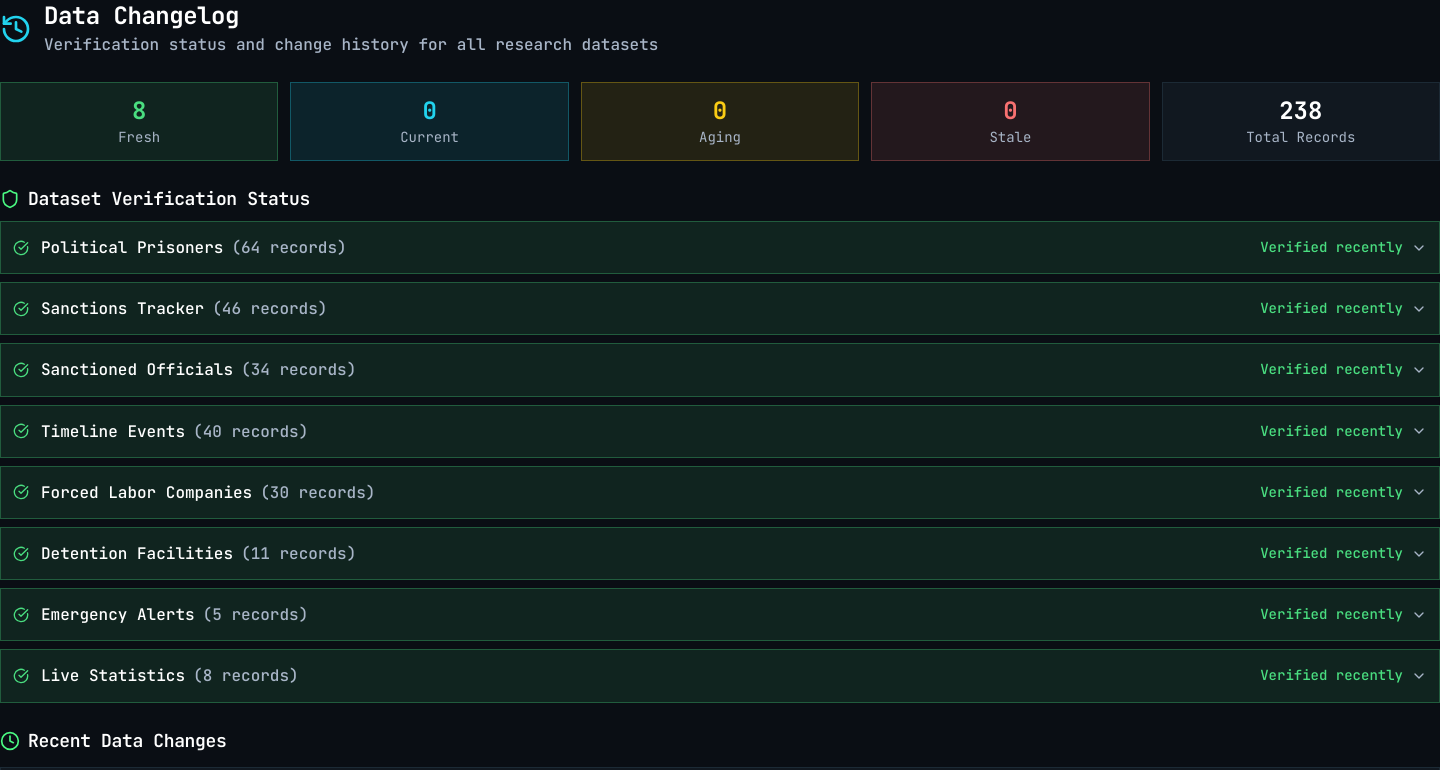
Scenario: DataChangelog › collapses on second click
Click the button "Political Prisoners".
click(132, 248)  # box [1,222,1439,273]
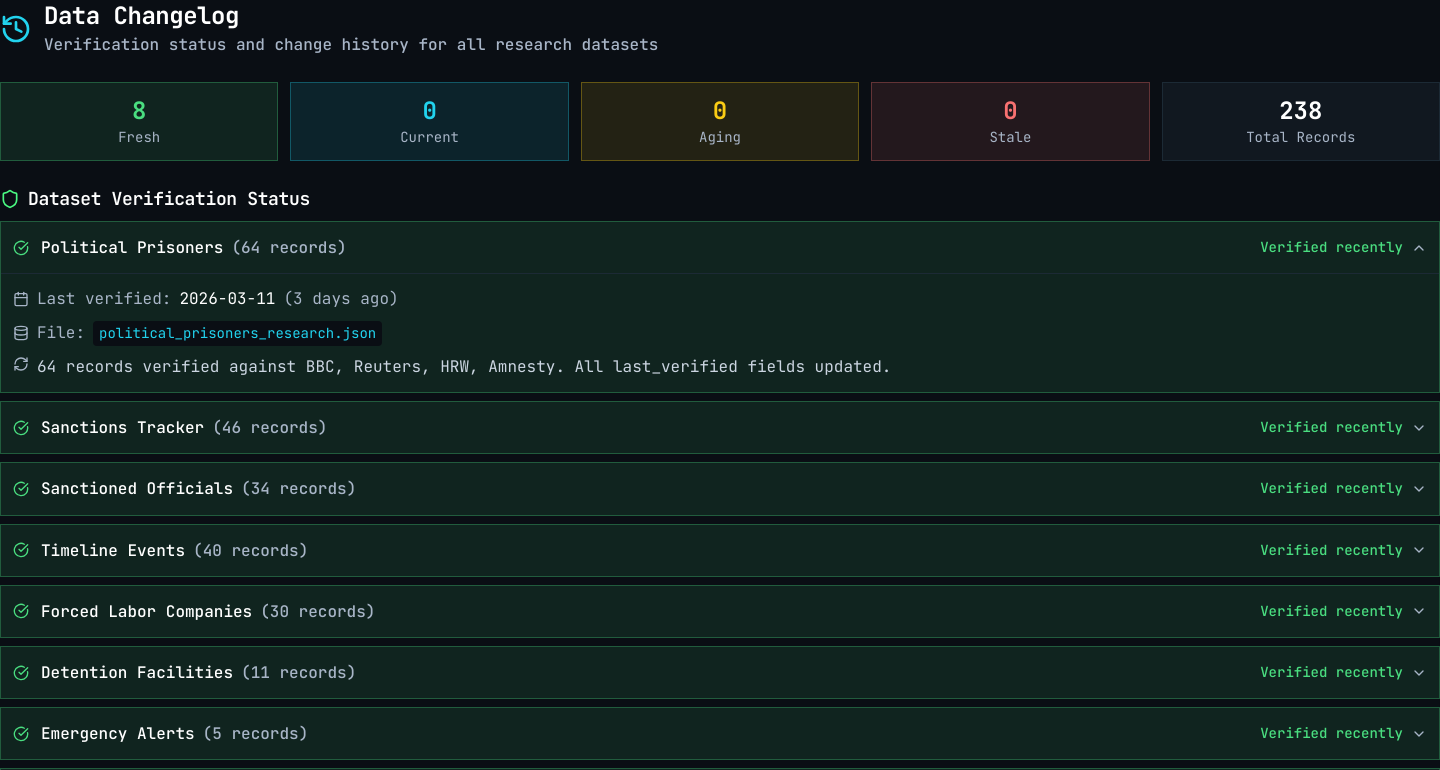
Result: the text "political_prisoners_research.json" is shown at [93,321,382,346]
Click the button "Political Prisoners".
click(132, 248)  # box [1,222,1439,273]
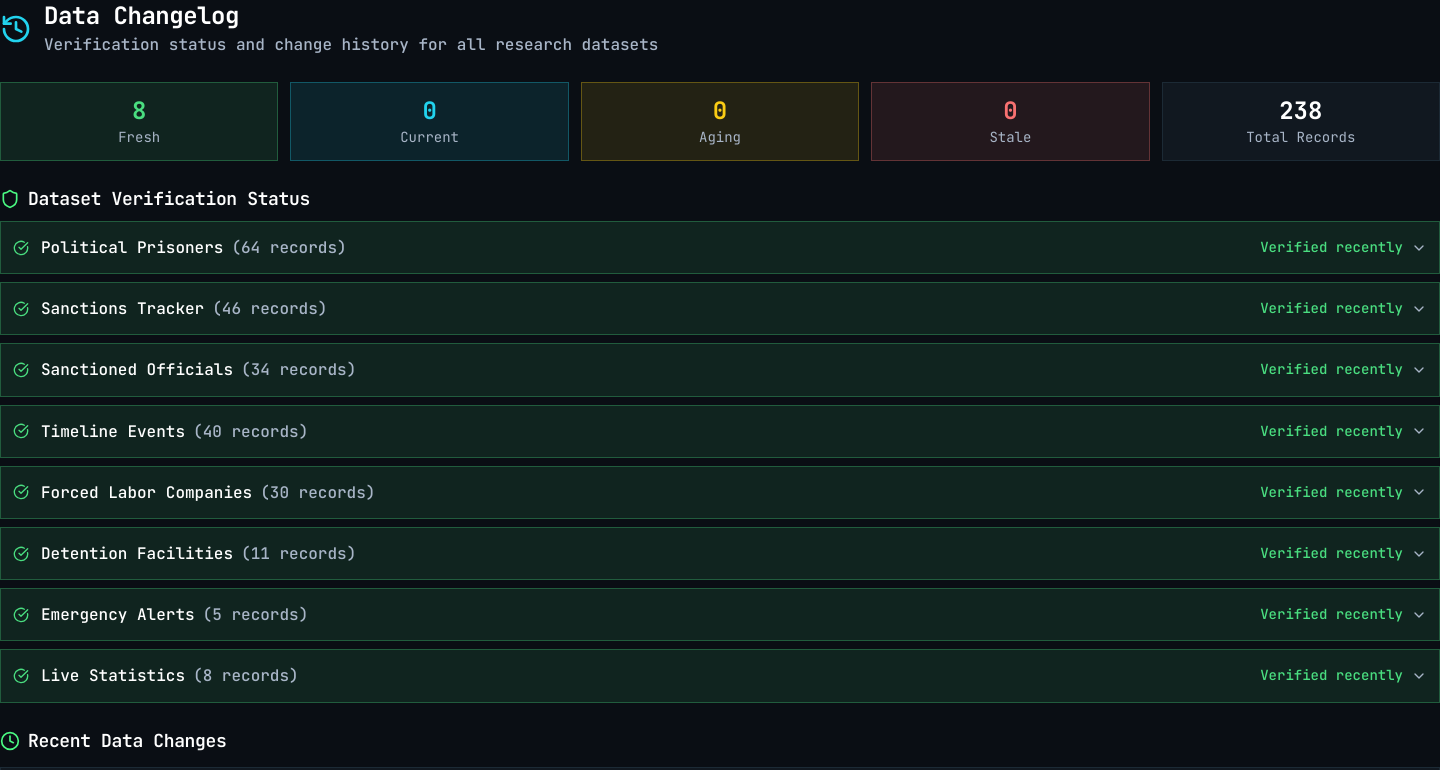
Result: the text "political_prisoners_research.json" is gone
